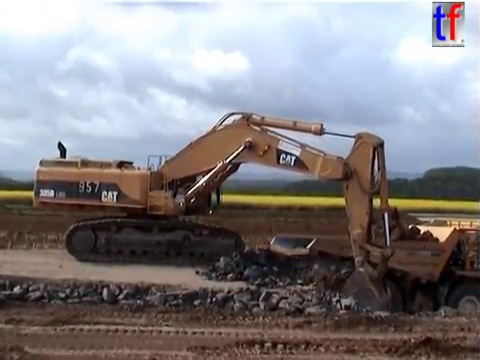excavator: (30, 108, 402, 326)
truck: (266, 215, 480, 334)
